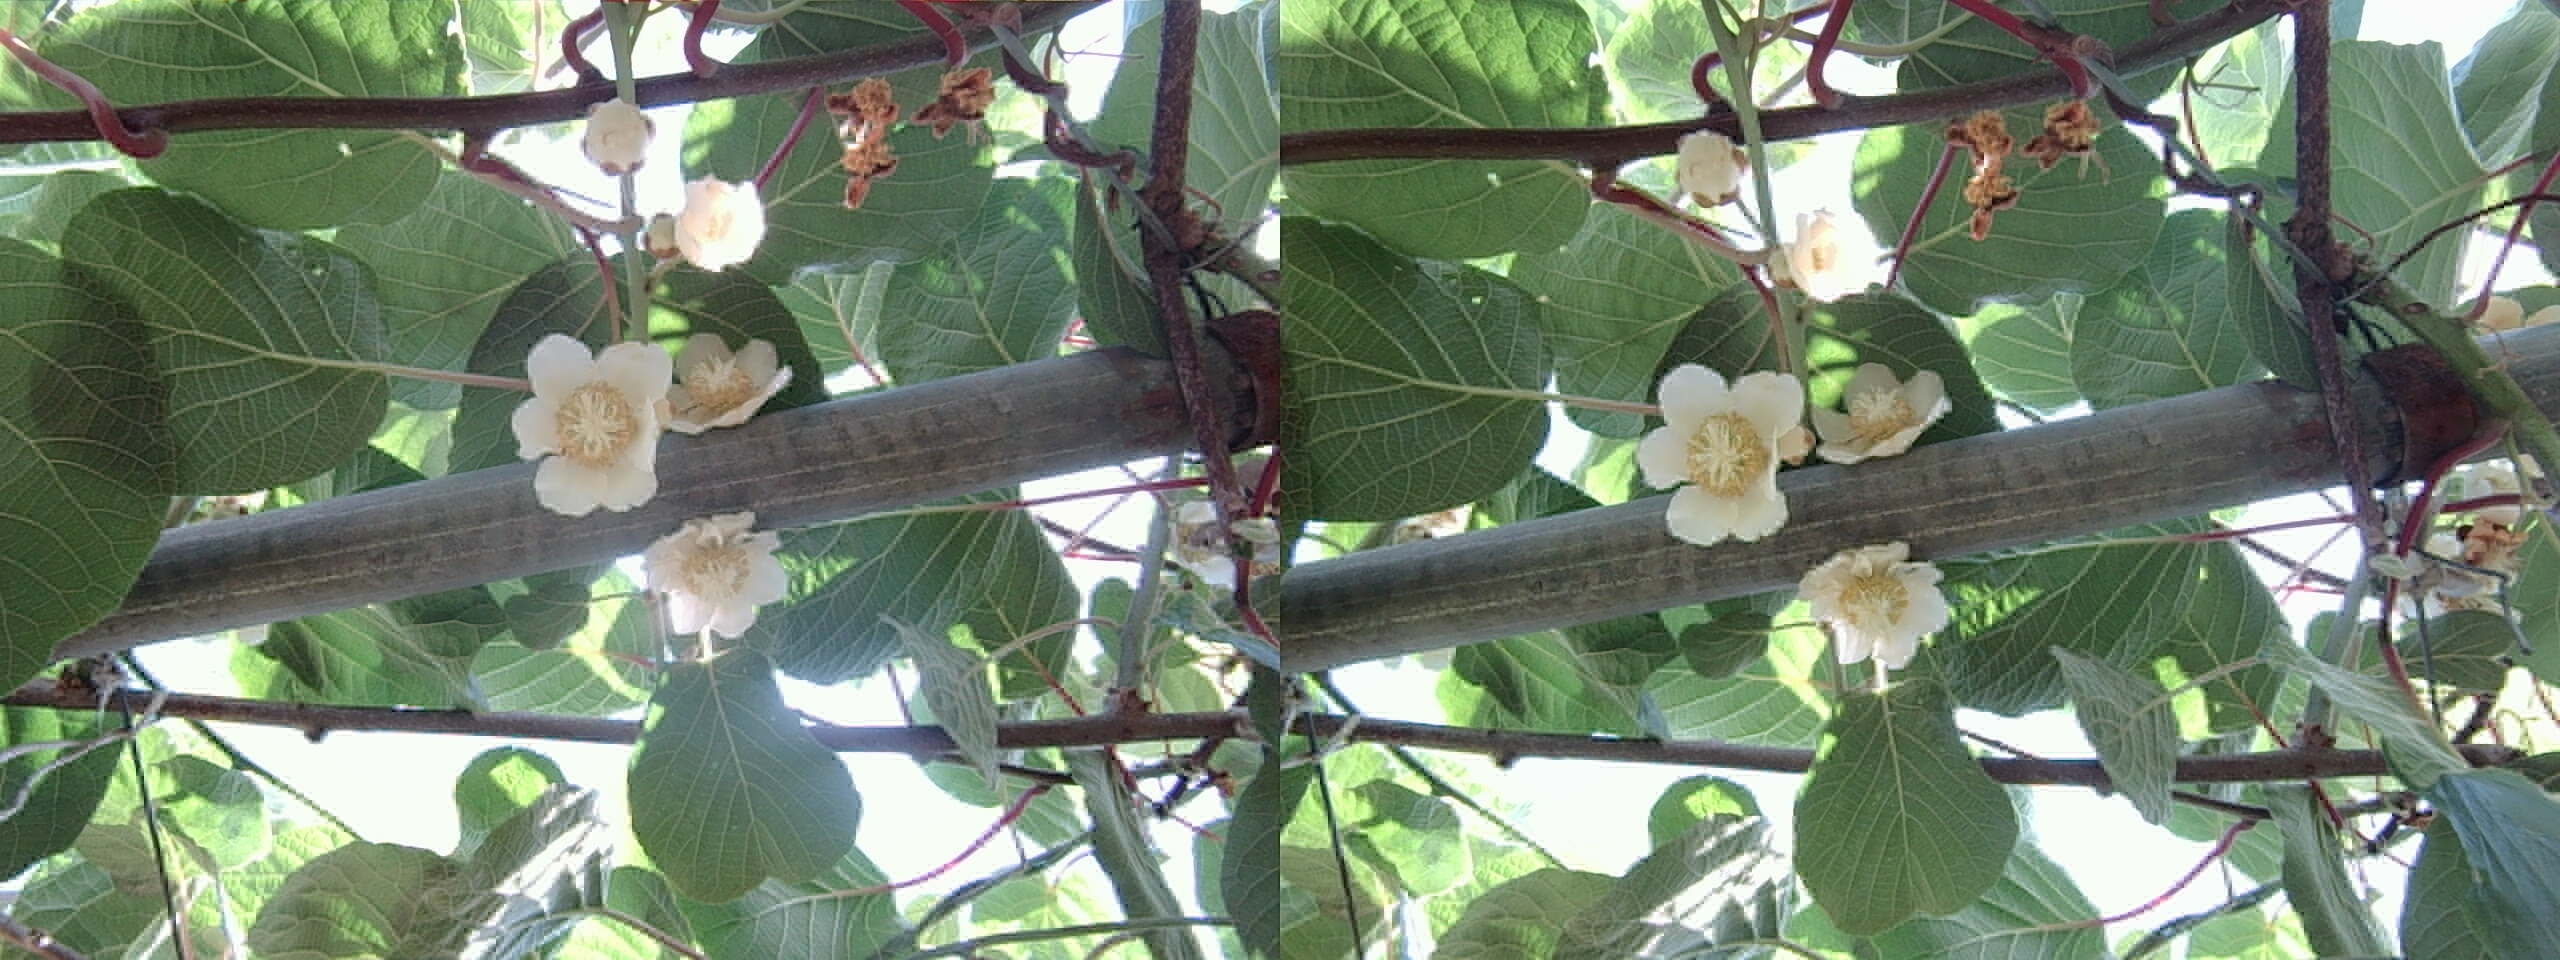flower: (1631, 354, 1817, 545), (501, 330, 673, 514), (1786, 534, 1953, 678), (624, 508, 793, 645), (1820, 361, 1940, 460), (666, 335, 774, 429)
